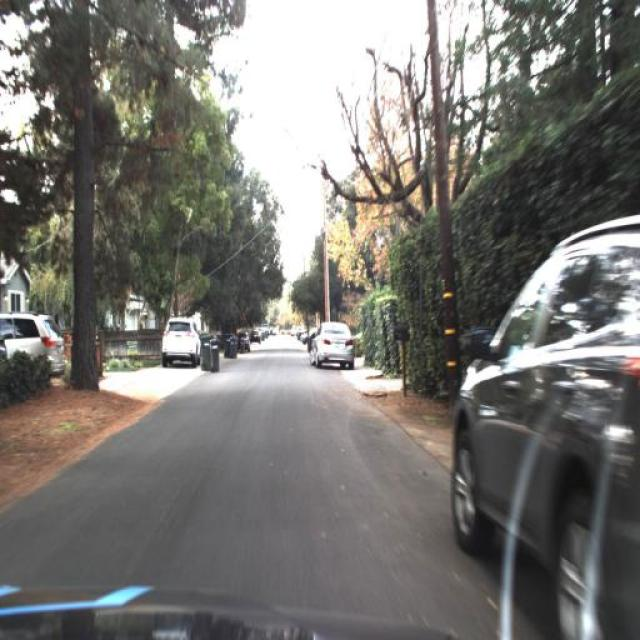car: (446, 216, 640, 640), (1, 305, 68, 379), (156, 317, 203, 367), (307, 320, 354, 370), (160, 314, 200, 368), (298, 326, 318, 346), (235, 326, 251, 350), (248, 326, 261, 346)
